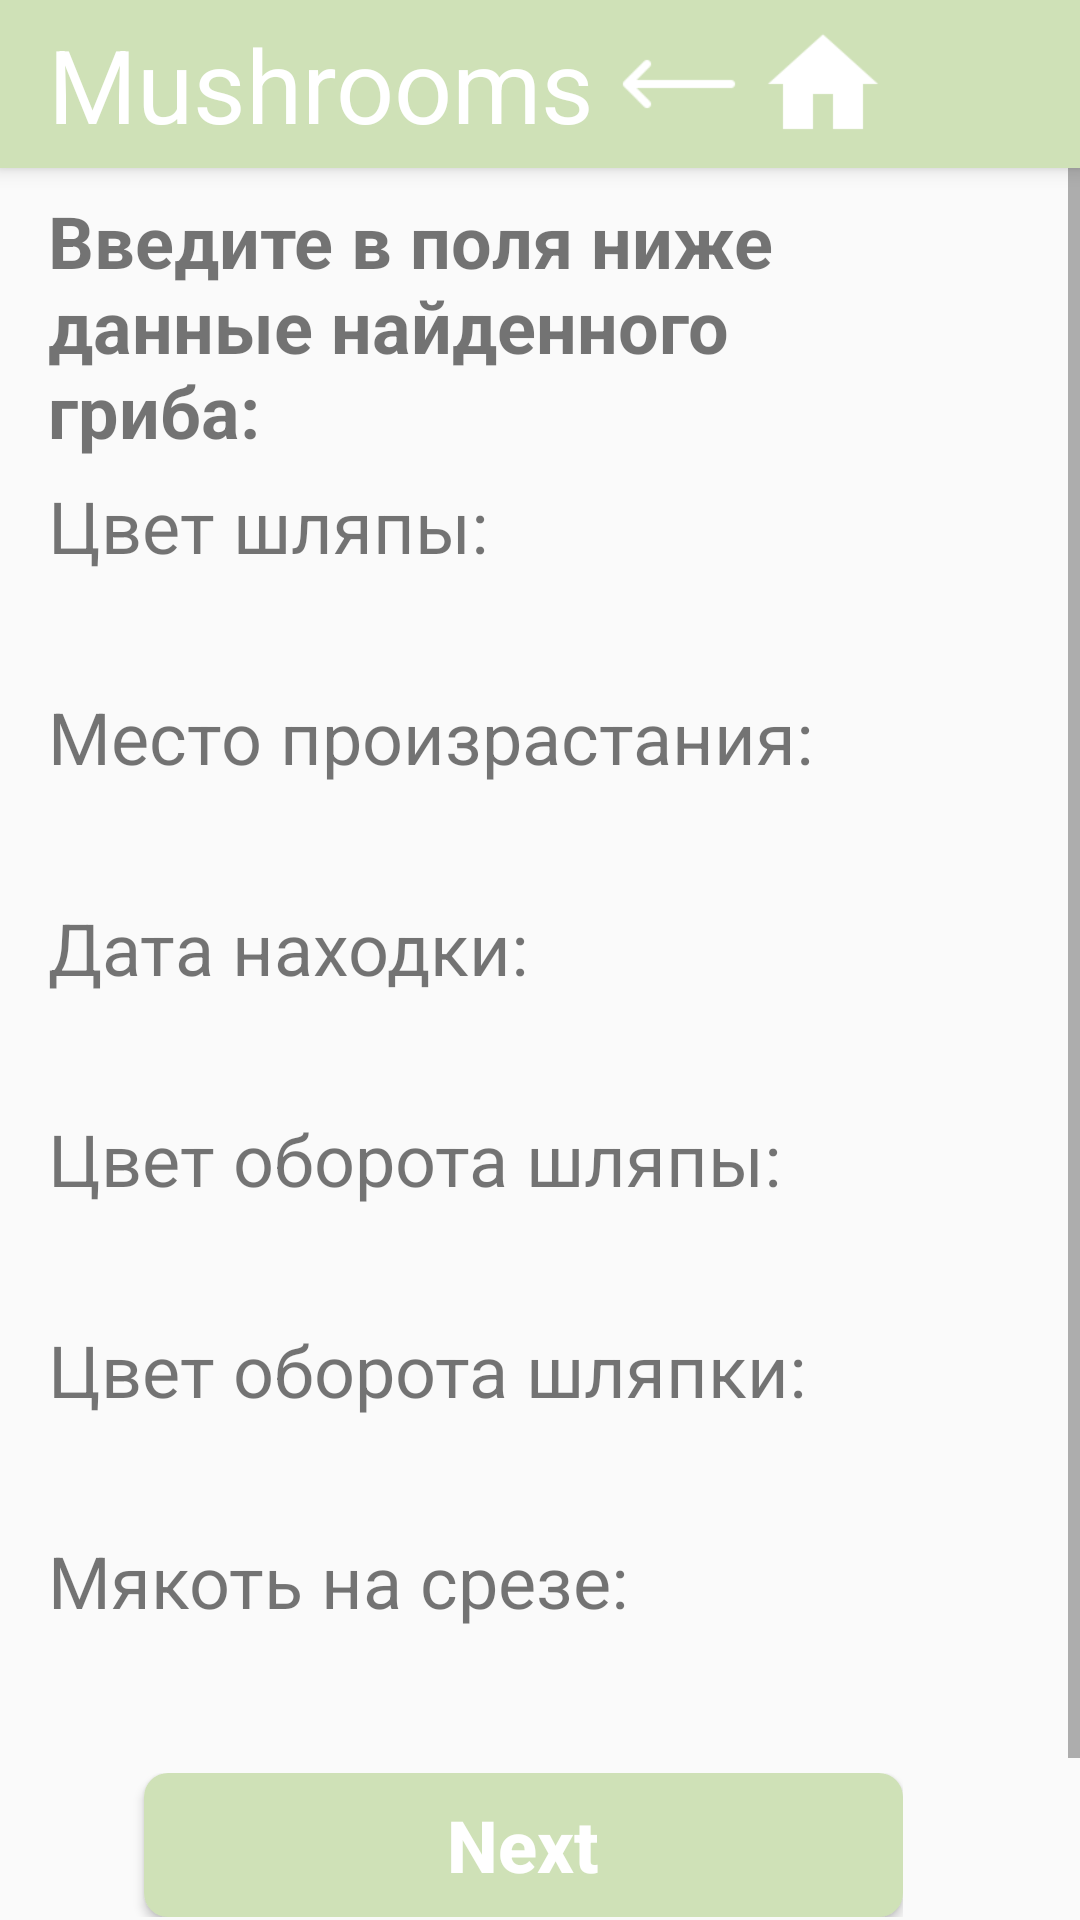

Where icons sit on this 1080px×1920px app screen, as (x1, y1, x2, y2):
home: (768, 35, 878, 129)
long arrow left: (623, 60, 735, 108)
